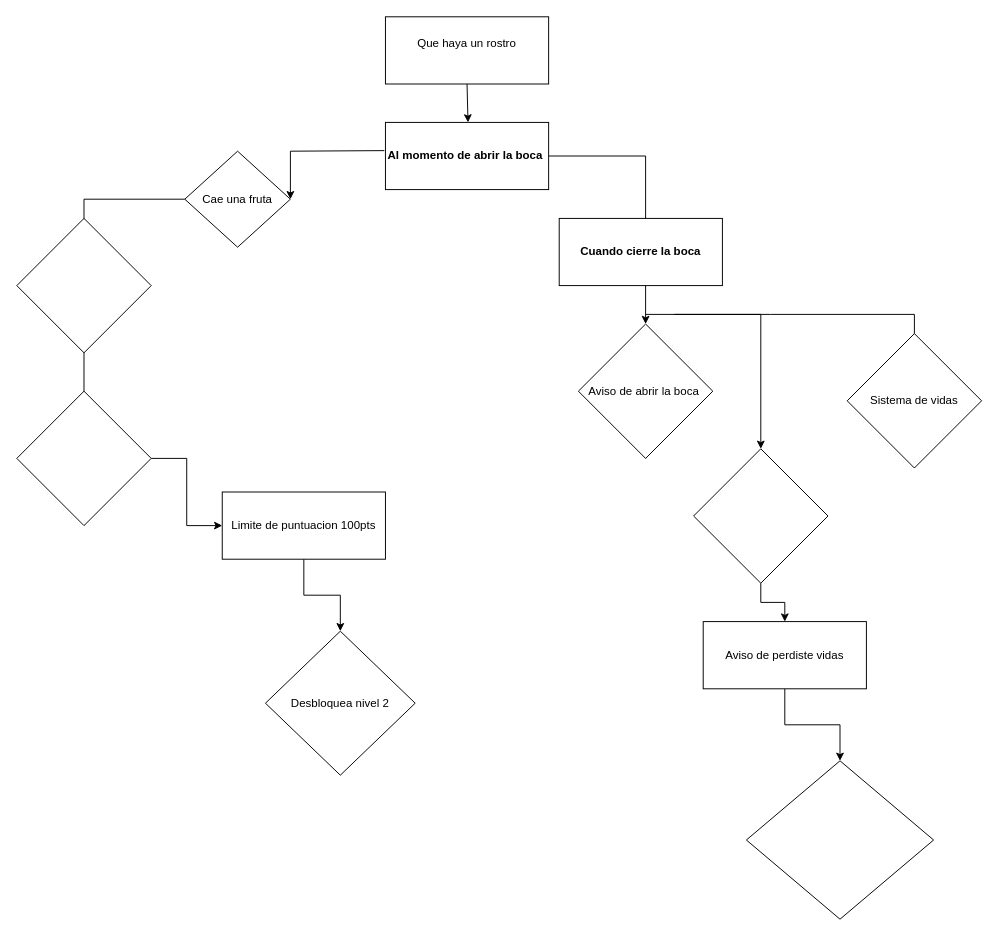
This 998x936 diagram has some shape labels left out. Here are the shapes that lost their labels. From the top down, the box of each, then its label:
(16, 217, 151, 353): Sistema de score
(16, 390, 151, 526): Ganas score
(693, 448, 828, 583): Pierdes vidas
(745, 760, 934, 919): Abre la boca para reiniciar
